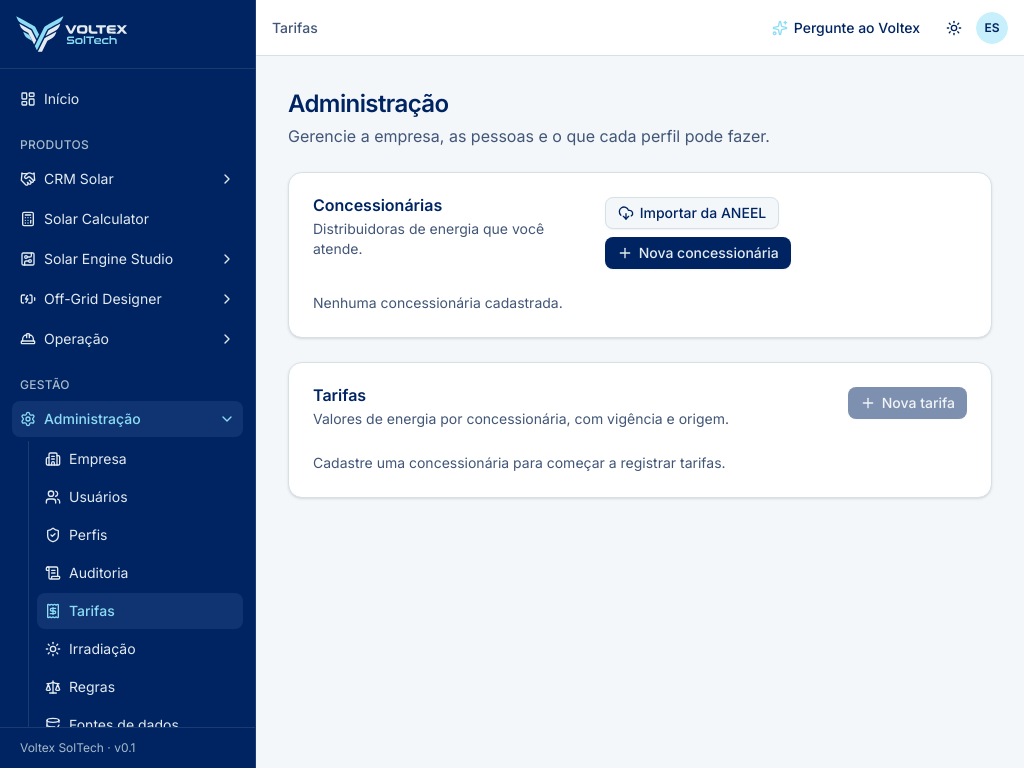
it: Administração → Tarifas → importar da ANEEL › explica o que é importado (e que não inclui impostos) antes de rodar
Click the button "Importar da ANEEL": (692, 213) [605,197,779,229]
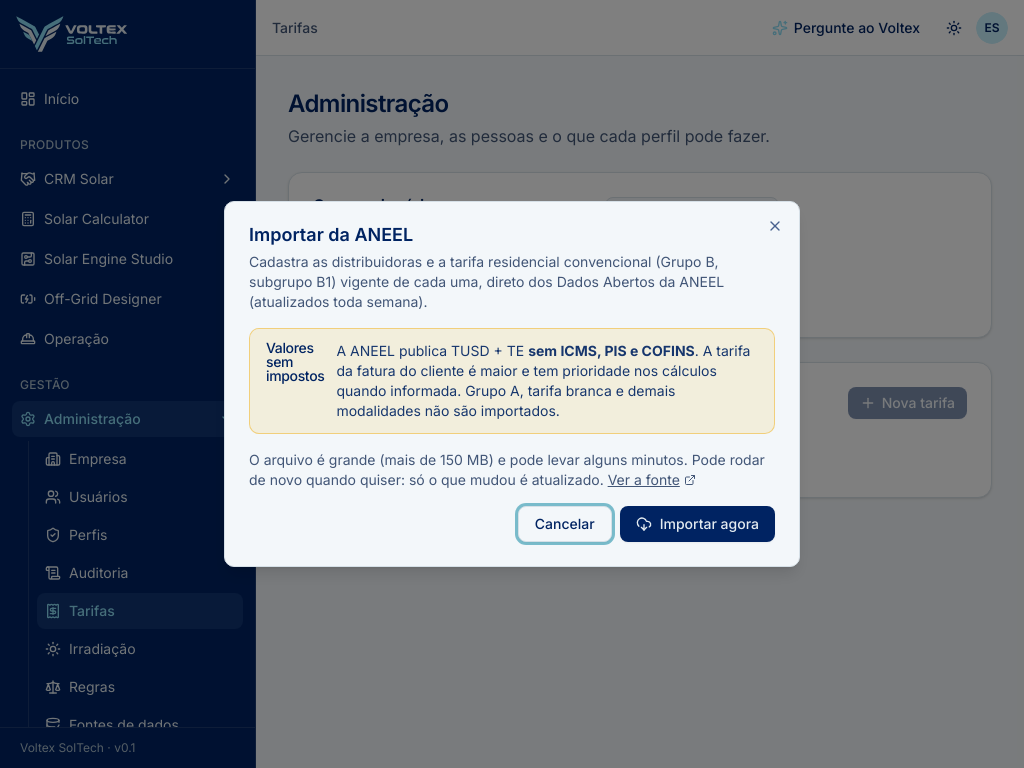
expect the text "Valores sem impostos" is shown: met, box [266,341,324,383]
expect the text "sem ICMS, PIS e COFINS" is shown: met, box [528,342,695,359]
expect the text "Grupo B, subgrupo B1" is shown: met, box [249,253,724,310]
